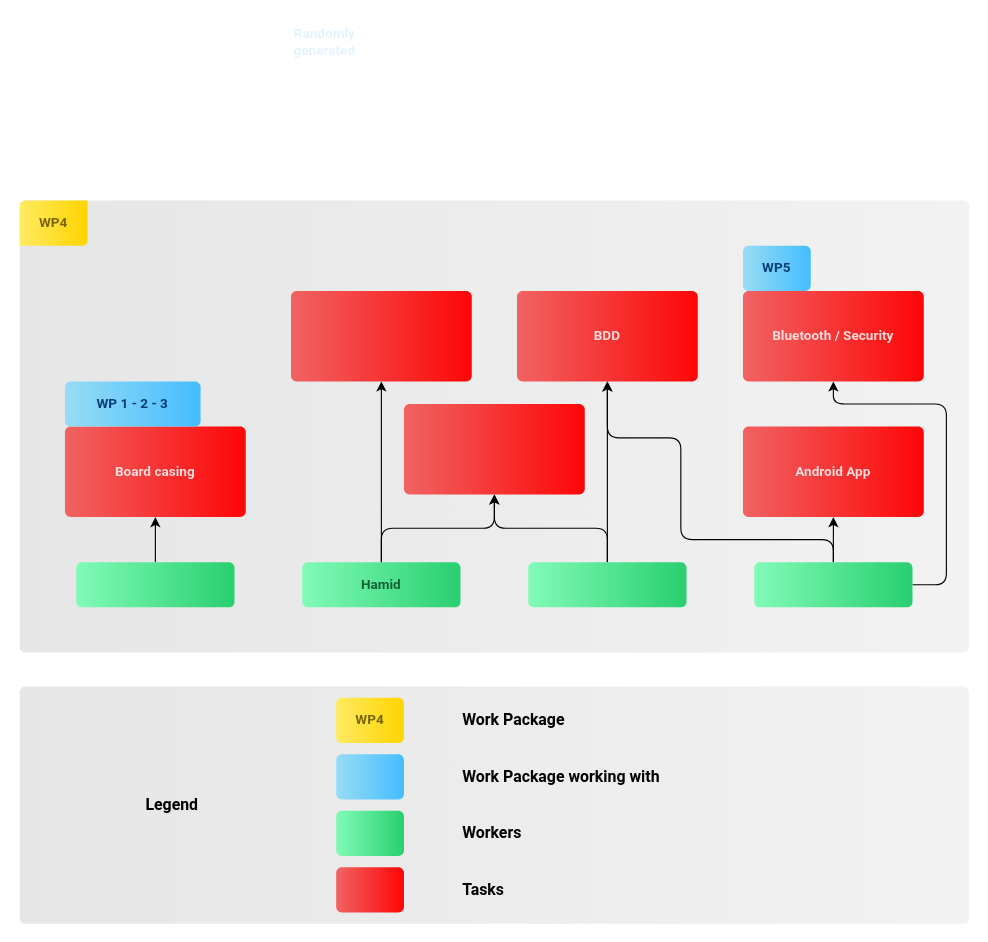
Some shapes in this 988 by 942 pixel diagram are drawn without their labels. Here are the shapes that lost their labels. From the top down, the centre of each, then its label:
pixel 380 335: QR Code generator
pixel 493 448: Persona
pixel 155 584: Liam
pixel 607 584: Salma
pixel 833 584: Axel
